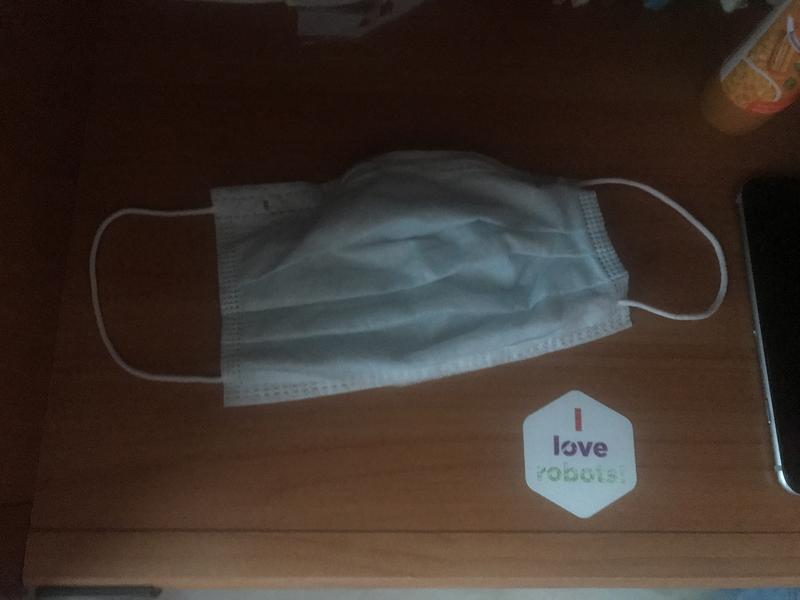medical_mask: (89, 151, 730, 399)
